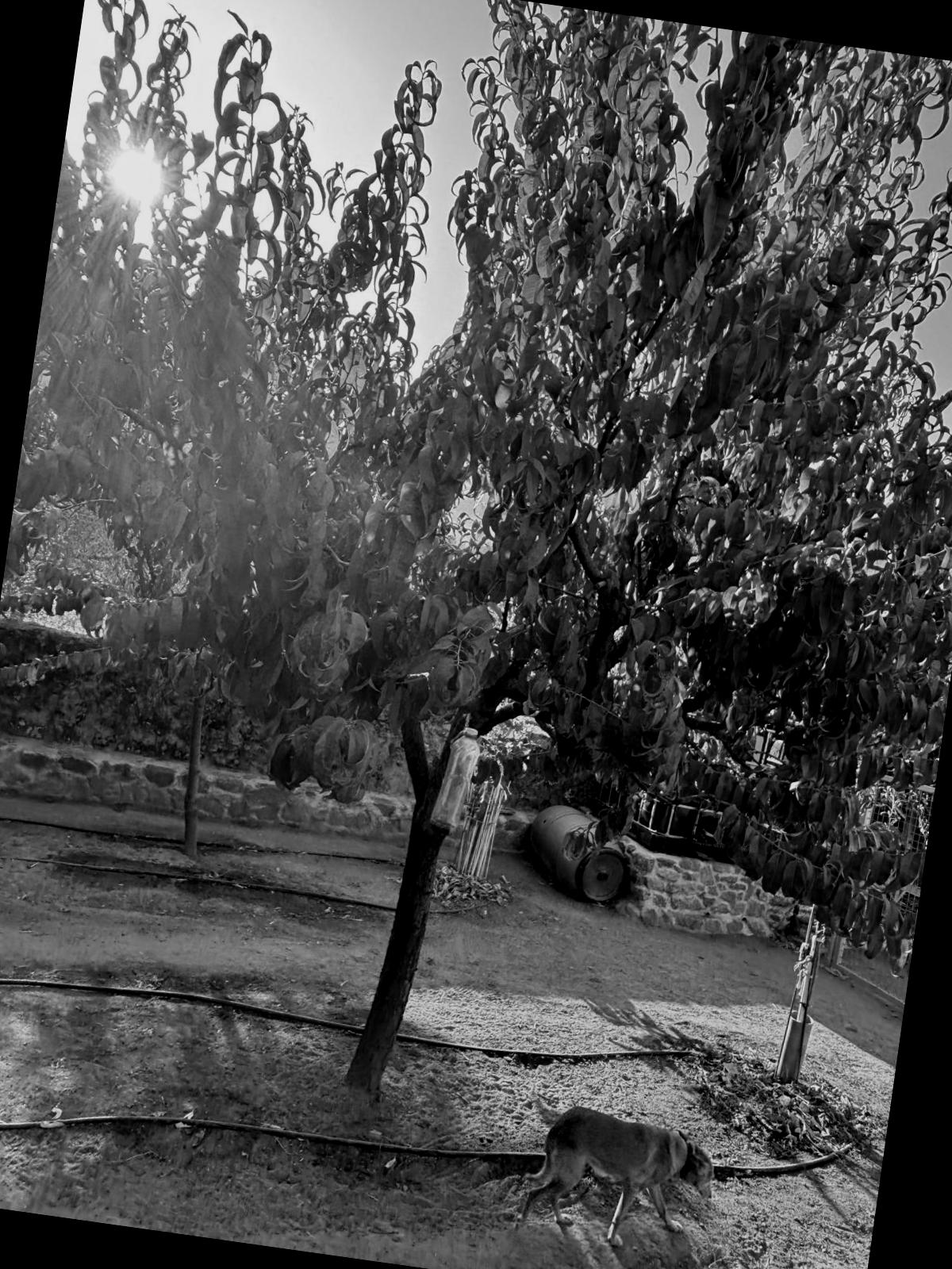melocotonero: (61, 116, 877, 1095)
